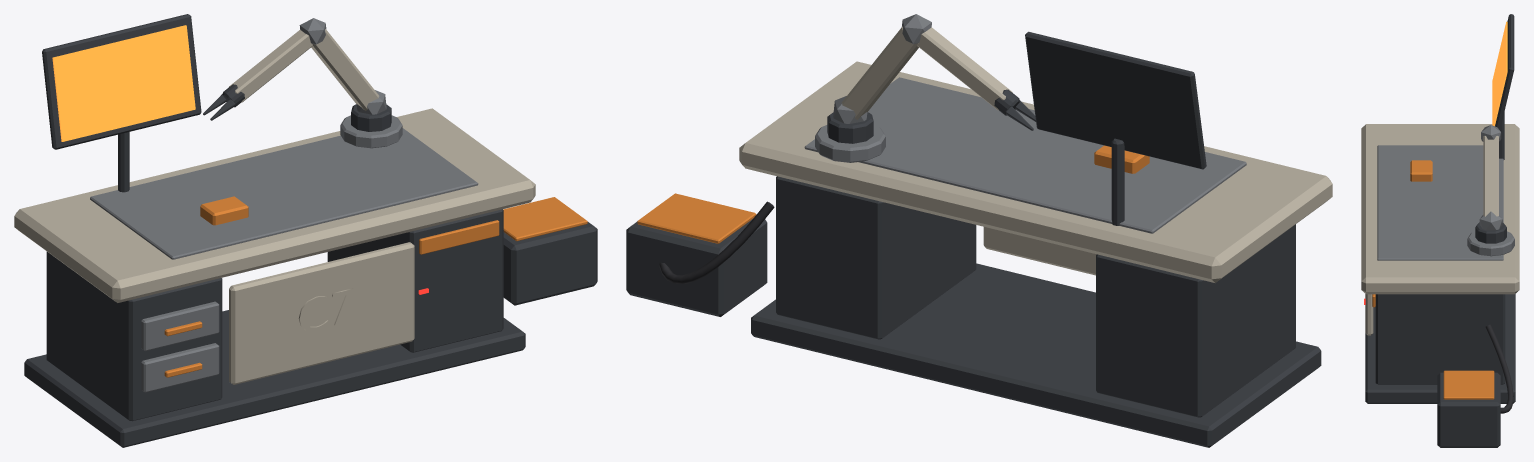
The model's file is TC_PROP_Workbench_V1.gltf.
The picture shows the model from 3 angles, left to right: view 1: azimuth 30°, elevation 25°; view 2: azimuth 150°, elevation 25°; view 3: azimuth 270°, elevation 25°; orthographic projection. The views are drawn at different scales.
Visible parts, largest first — view 1: TC_Workbench_Top, TC_Workbench_WorkSurface, TC_Workbench_FrontPanel, TC_Workbench_Skid, TC_Workbench_LegL, TC_Workbench_HoloScreen, TC_Workbench_LegR, TC_Workbench_PowerBlock, TC_Workbench_HoloFrame, TC_Workbench_PowerStripe, TC_Workbench_DrawerA, TC_Workbench_DrawerB (+8 smaller); view 2: TC_Workbench_Skid, TC_Workbench_Top, TC_Workbench_LegL, TC_Workbench_WorkSurface, TC_Workbench_LegR, TC_Workbench_HoloFrame, TC_Workbench_PowerBlock, TC_Workbench_PowerStripe, TC_Workbench_FrontPanel, TC_Workbench_ArmUpper, TC_Workbench_ArmFore, TC_Workbench_ArmBase (+4 smaller); view 3: TC_Workbench_Top, TC_Workbench_WorkSurface, TC_Workbench_LegR, TC_Workbench_PowerBlock, TC_Workbench_Skid, TC_Workbench_PowerStripe, TC_Workbench_ArmUpper, TC_Workbench_HoloScreen, TC_Workbench_HoloFrame, TC_Workbench_ArmBase, TC_Workbench_Cable, TC_Workbench_Clamp (+5 smaller).
Part boxes in pixels (left/top/right/bottom): TC_Workbench_Top: left=14, top=108, right=535, bottom=302; TC_Workbench_WorkSurface: left=90, top=128, right=478, bottom=259; TC_Workbench_FrontPanel: left=229, top=242, right=414, bottom=384; TC_Workbench_Skid: left=24, top=310, right=525, bottom=447; TC_Workbench_LegL: left=46, top=251, right=222, bottom=421; TC_Workbench_HoloScreen: left=52, top=25, right=195, bottom=141; TC_Workbench_LegR: left=327, top=209, right=503, bottom=352; TC_Workbench_PowerBlock: left=503, top=222, right=597, bottom=305; TC_Workbench_HoloFrame: left=42, top=14, right=201, bottom=149; TC_Workbench_PowerStripe: left=503, top=197, right=587, bottom=241; TC_Workbench_DrawerA: left=141, top=301, right=219, bottom=351; TC_Workbench_DrawerB: left=141, top=343, right=219, bottom=392; TC_Workbench_Skid: left=751, top=263, right=1321, bottom=447; TC_Workbench_Top: left=739, top=61, right=1332, bottom=282; TC_Workbench_LegL: left=1096, top=224, right=1295, bottom=417; TC_Workbench_WorkSurface: left=804, top=77, right=1246, bottom=233; TC_Workbench_LegR: left=776, top=176, right=976, bottom=339; TC_Workbench_HoloFrame: left=1025, top=31, right=1206, bottom=169; TC_Workbench_PowerBlock: left=626, top=219, right=767, bottom=316; TC_Workbench_PowerStripe: left=637, top=193, right=756, bottom=243; TC_Workbench_FrontPanel: left=983, top=227, right=1096, bottom=275; TC_Workbench_ArmUpper: left=841, top=26, right=918, bottom=119; TC_Workbench_ArmFore: left=917, top=27, right=1012, bottom=110; TC_Workbench_ArmBase: left=815, top=125, right=885, bottom=162; TC_Workbench_Top: left=1361, top=124, right=1519, bottom=294; TC_Workbench_WorkSurface: left=1377, top=145, right=1503, bottom=260; TC_Workbench_LegR: left=1375, top=294, right=1505, bottom=384; TC_Workbench_PowerBlock: left=1437, top=372, right=1500, bottom=447; TC_Workbench_Skid: left=1365, top=294, right=1515, bottom=403; TC_Workbench_PowerStripe: left=1443, top=370, right=1494, bottom=399; TC_Workbench_ArmUpper: left=1483, top=136, right=1498, bottom=216; TC_Workbench_HoloScreen: left=1492, top=21, right=1507, bottom=126; TC_Workbench_HoloFrame: left=1495, top=14, right=1514, bottom=129; TC_Workbench_ArmBase: left=1467, top=231, right=1514, bottom=256; TC_Workbench_Cable: left=1485, top=324, right=1513, bottom=413; TC_Workbench_Clamp: left=1410, top=160, right=1432, bottom=181.
Bounding box in the file's own units: 2.96 × 1.73 × 1.
